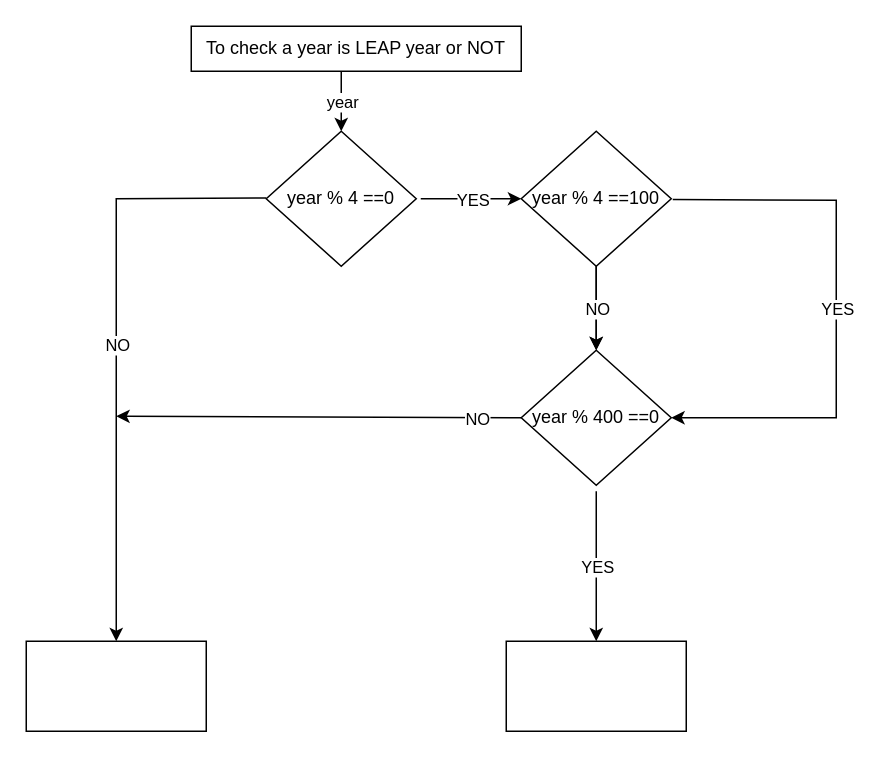
Some shapes in this 879 by 758 pixel diagram are drawn without their labels. Here are the shapes that lost their labels. From the top down, the centre of each, then its label:
(x=115, y=685): NOT LEAP YEAR
(x=595, y=685): LEAP YEAR
